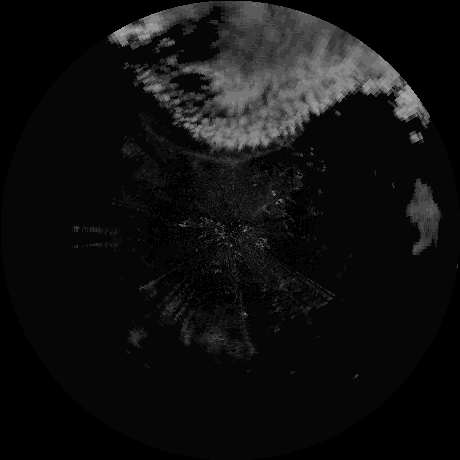frontgust: (180, 144, 282, 167)
